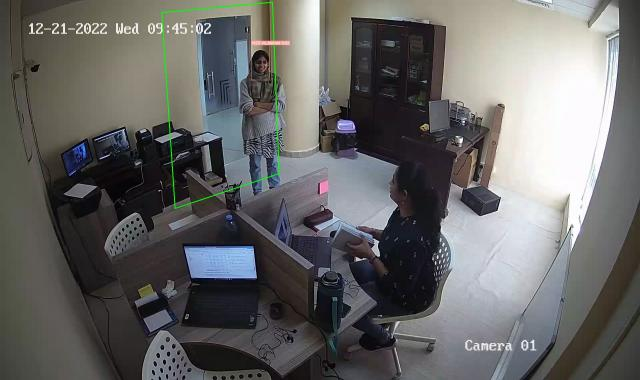no_hairnet: (389, 161, 424, 208), (250, 51, 270, 75)
